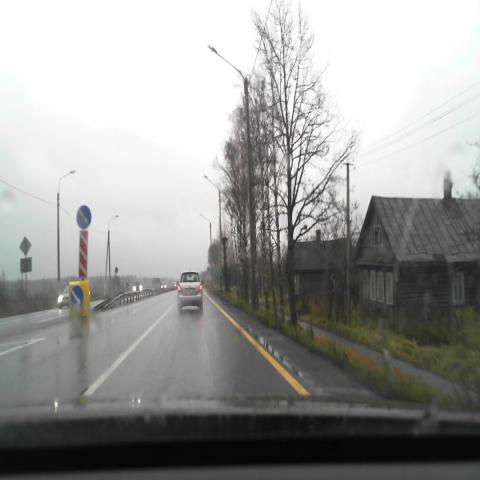4_2_1: (76, 205, 92, 229)
